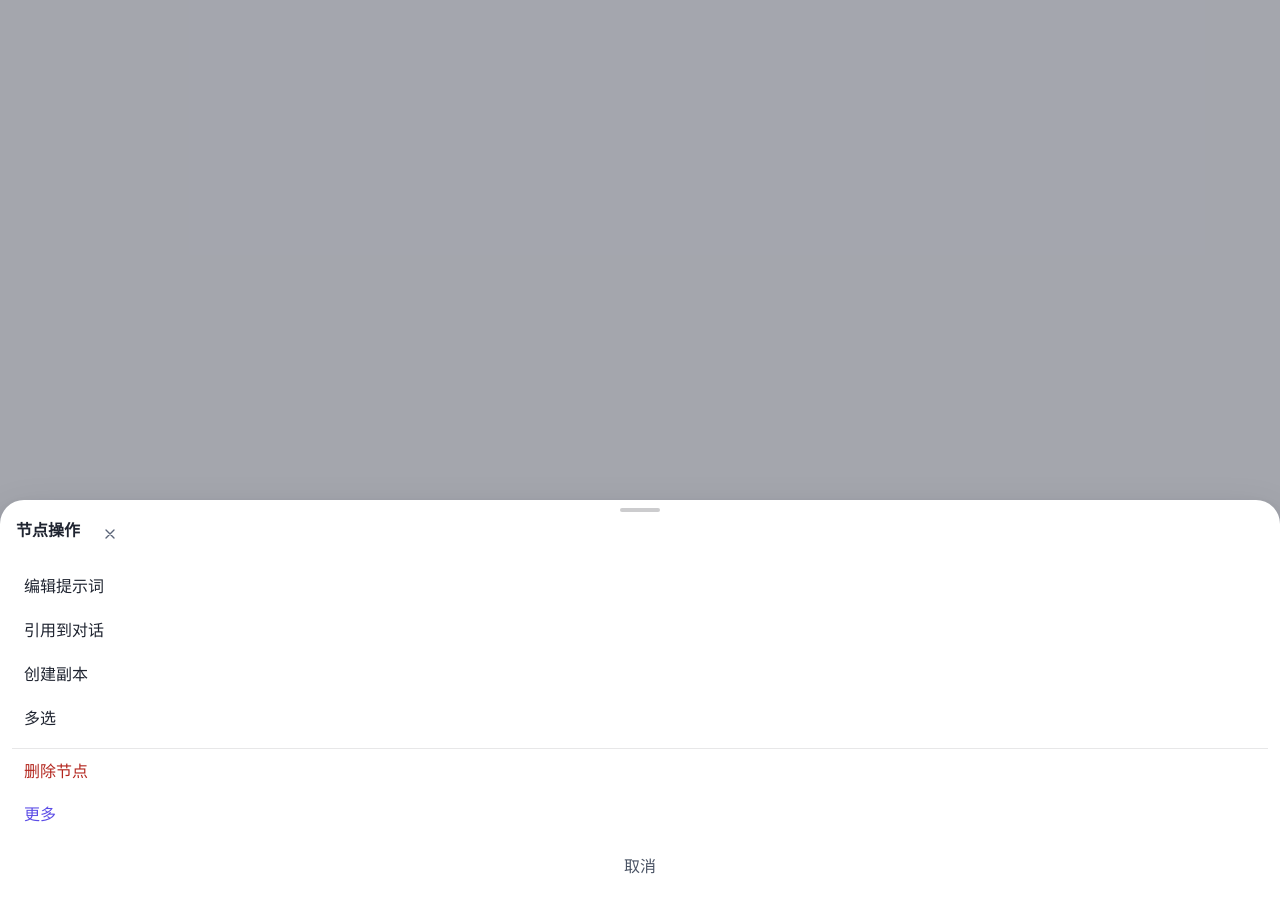
Test case: MobileNodeActionSheet（Menu · 一级/二级分层） › 点「更多」⇒ 二级含低频三项 + 返回
Click the button "更多": {"x": 40, "y": 814} 12,792 -> 1268,836
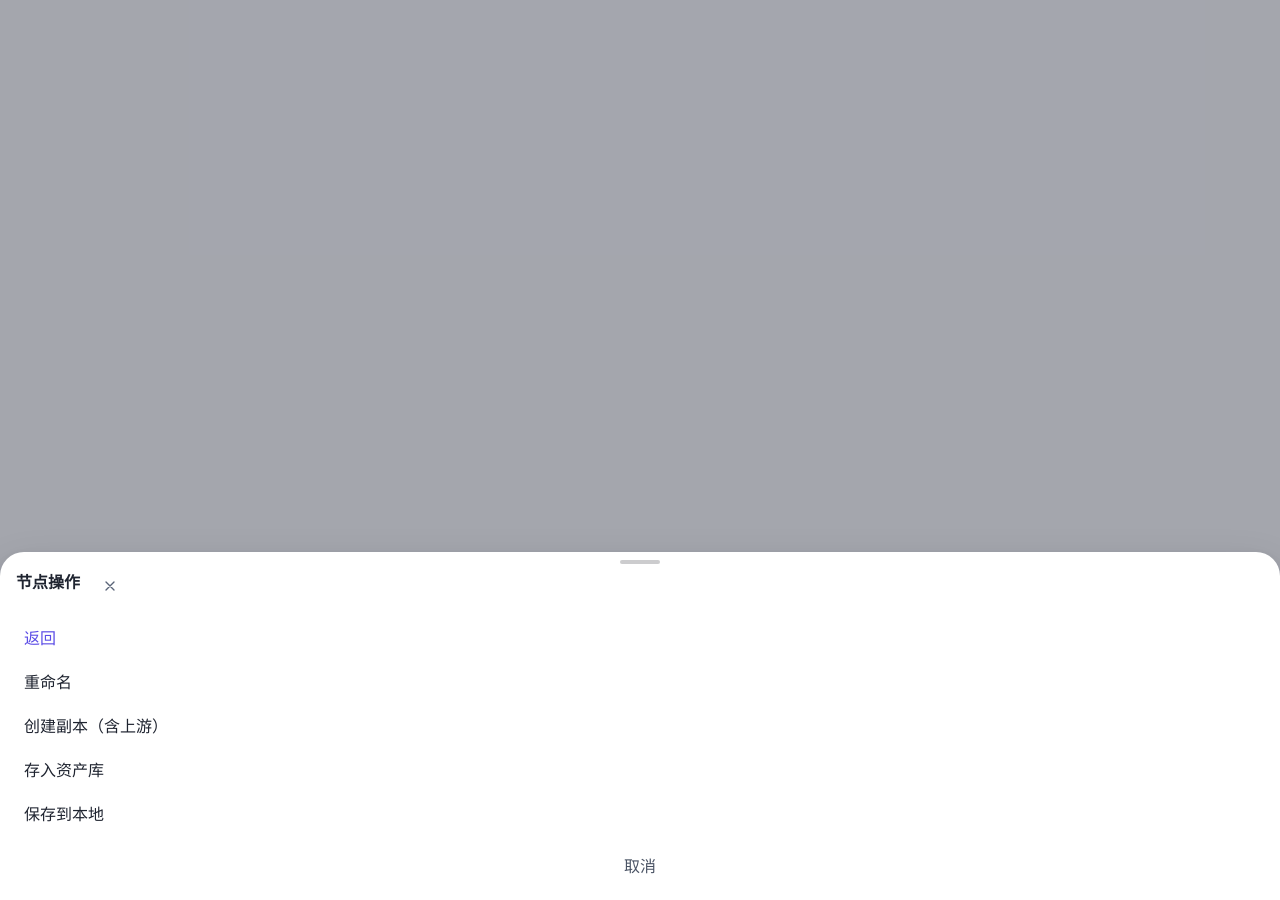
Expected: the text "重命名" is shown, 12,660 -> 1268,704
Expected: the text "创建副本（含上游）" is shown, 12,704 -> 1268,748
Expected: the text "存入资产库" is shown, 12,748 -> 1268,792
